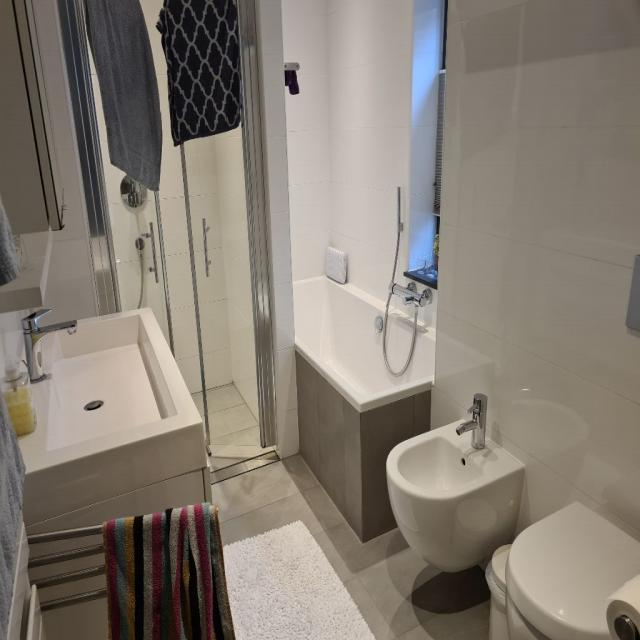bath: (292, 268, 436, 453)
douche: (55, 0, 302, 490)
toilet: (387, 392, 526, 572), (507, 499, 640, 640)
wastafel: (21, 465, 214, 640), (18, 304, 201, 471)
